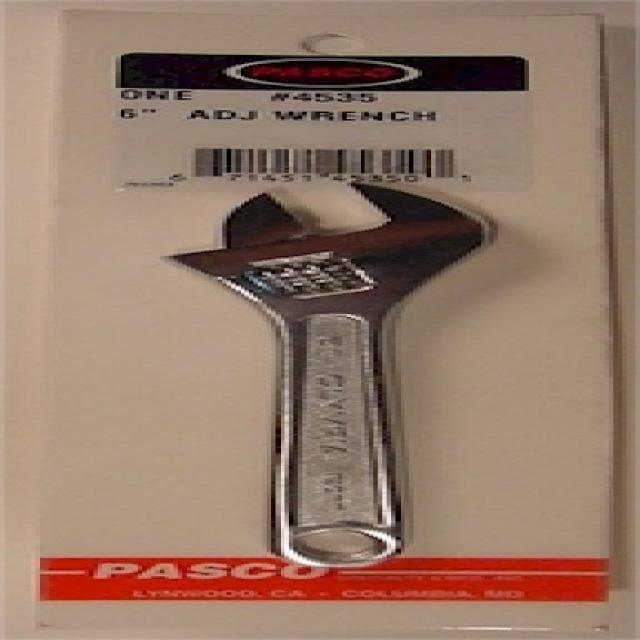wrench: (126, 174, 556, 572)
